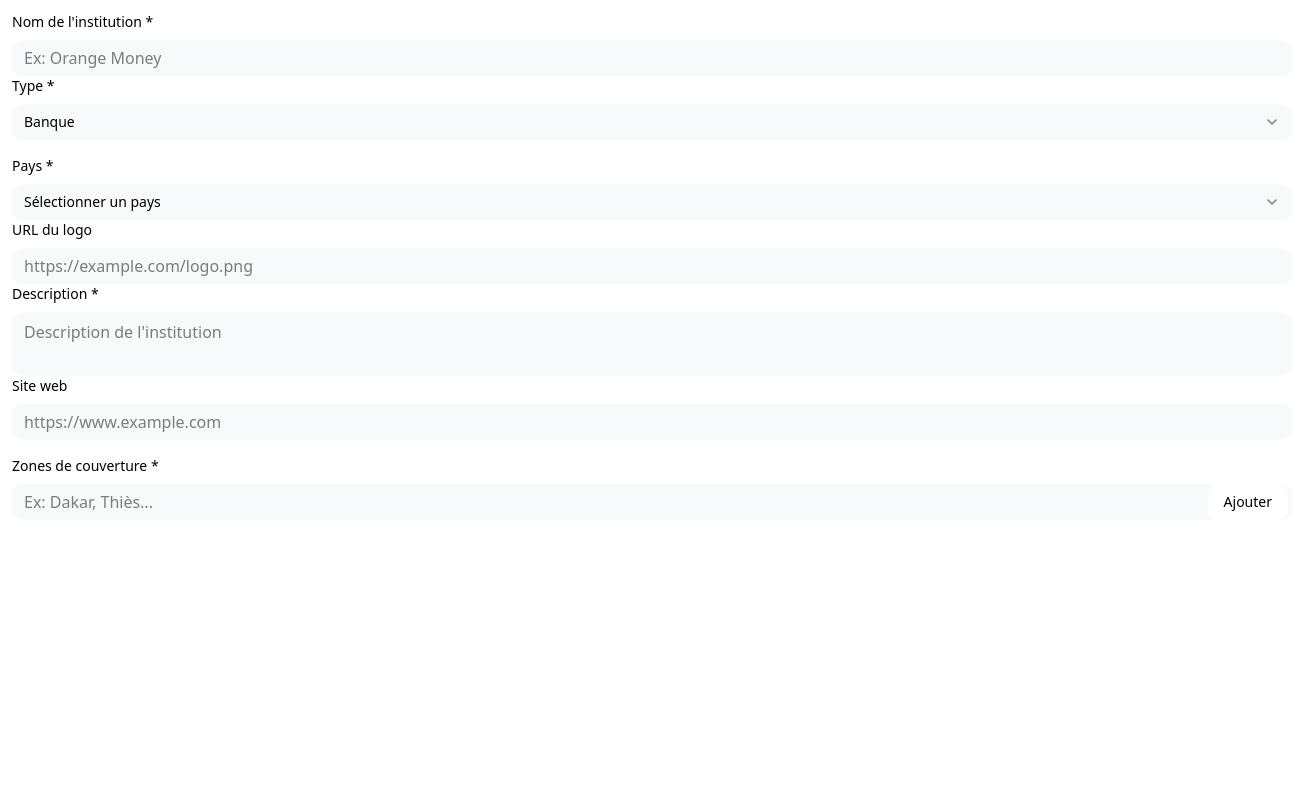
it: InstitutionFormFields (interactive) › Common behaviors › closes dropdown on outside click
Click the button "Ajouter".
click(1248, 502)  # box [1208,484,1288,520]
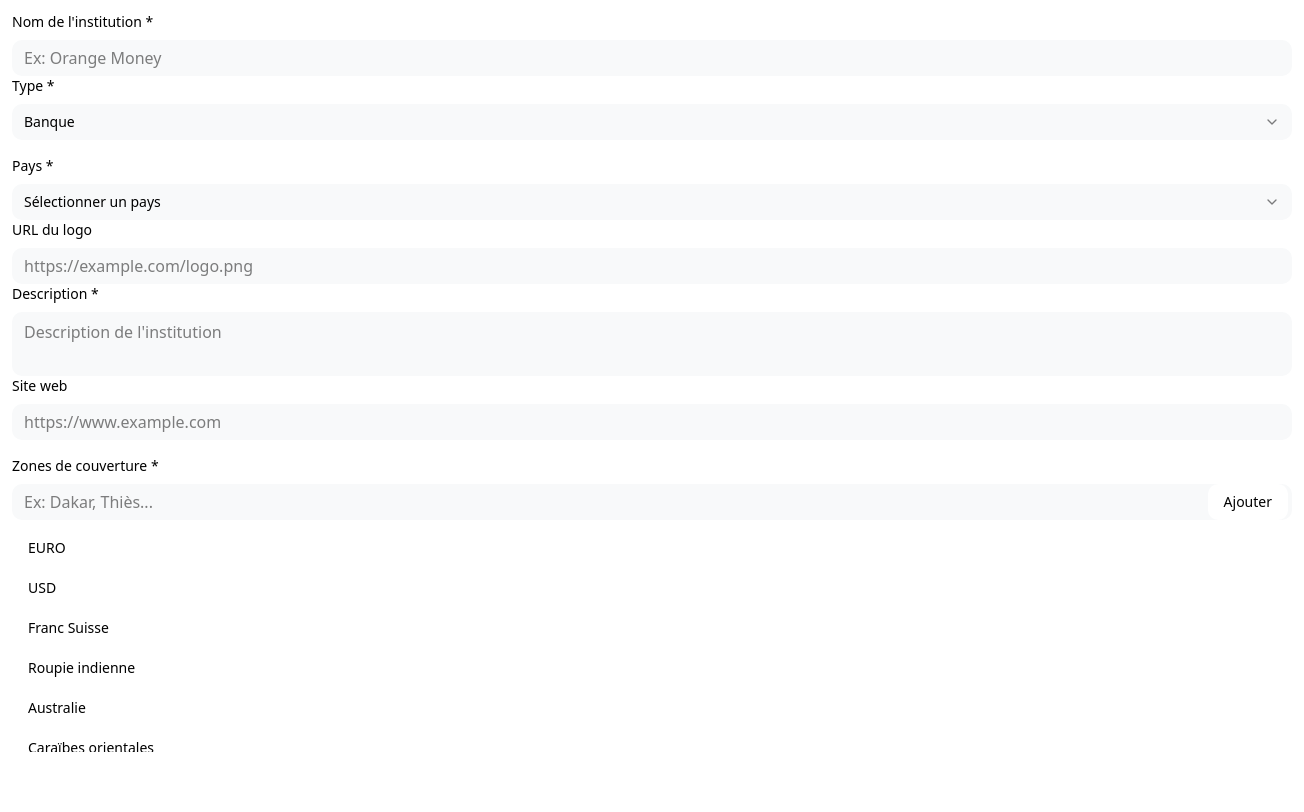
Now the button "EURO" is shown, box [12,528,1292,568]
# Click outside
Click the element that starts with "Nom de l'institution *".
click(652, 266)  # box [12,12,1292,520]
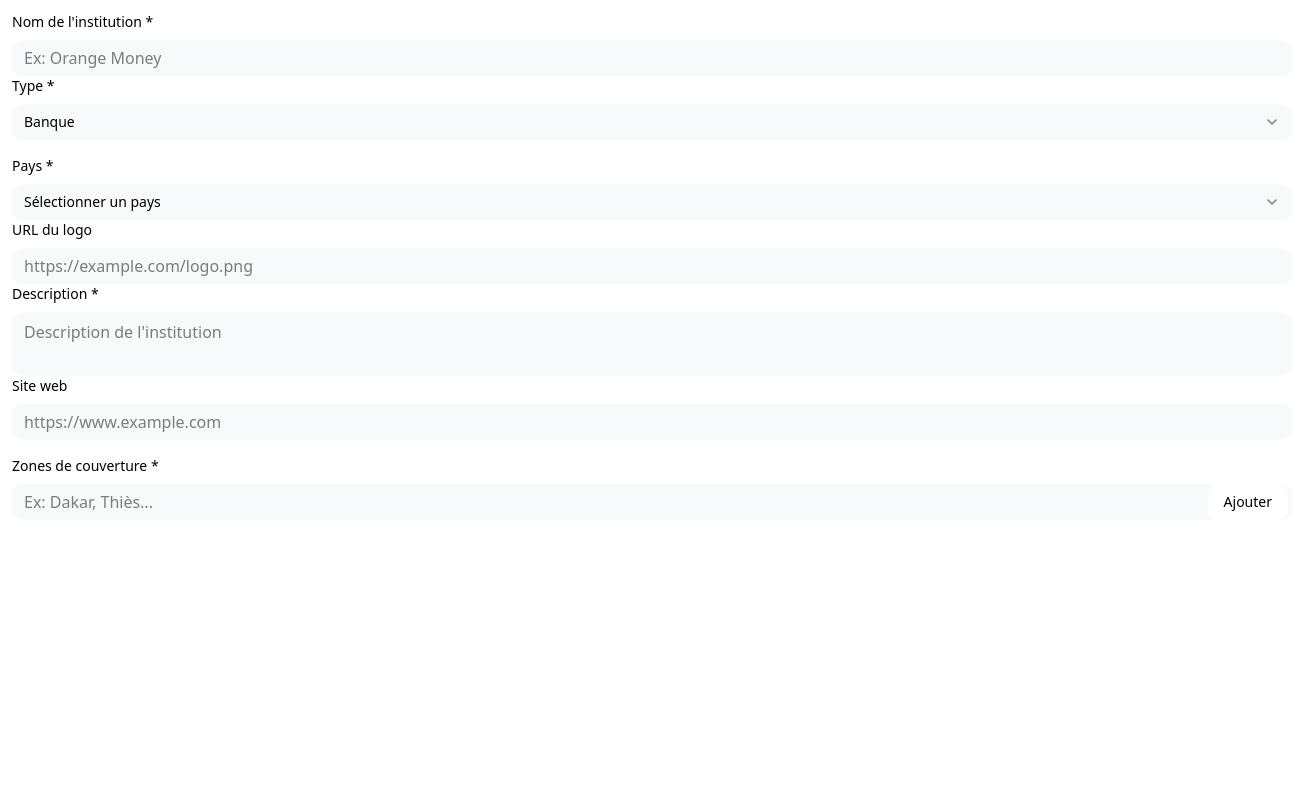
Now the button "EURO" is gone
